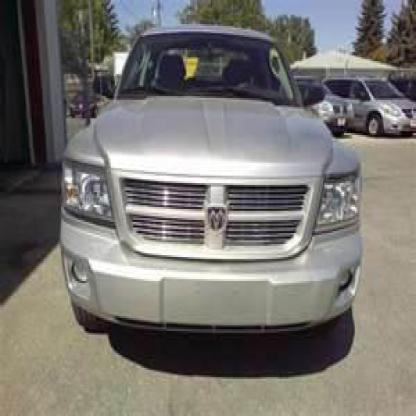Vehicle: (62, 26, 362, 353)
